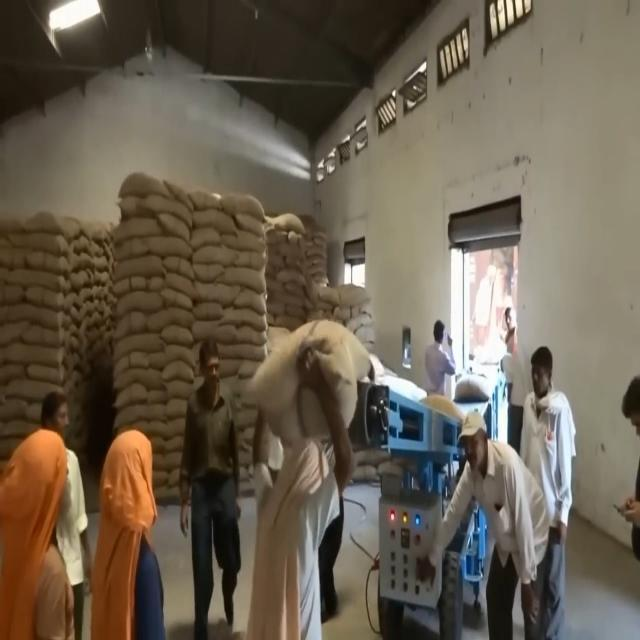gunny_bag: (240, 317, 373, 447)
